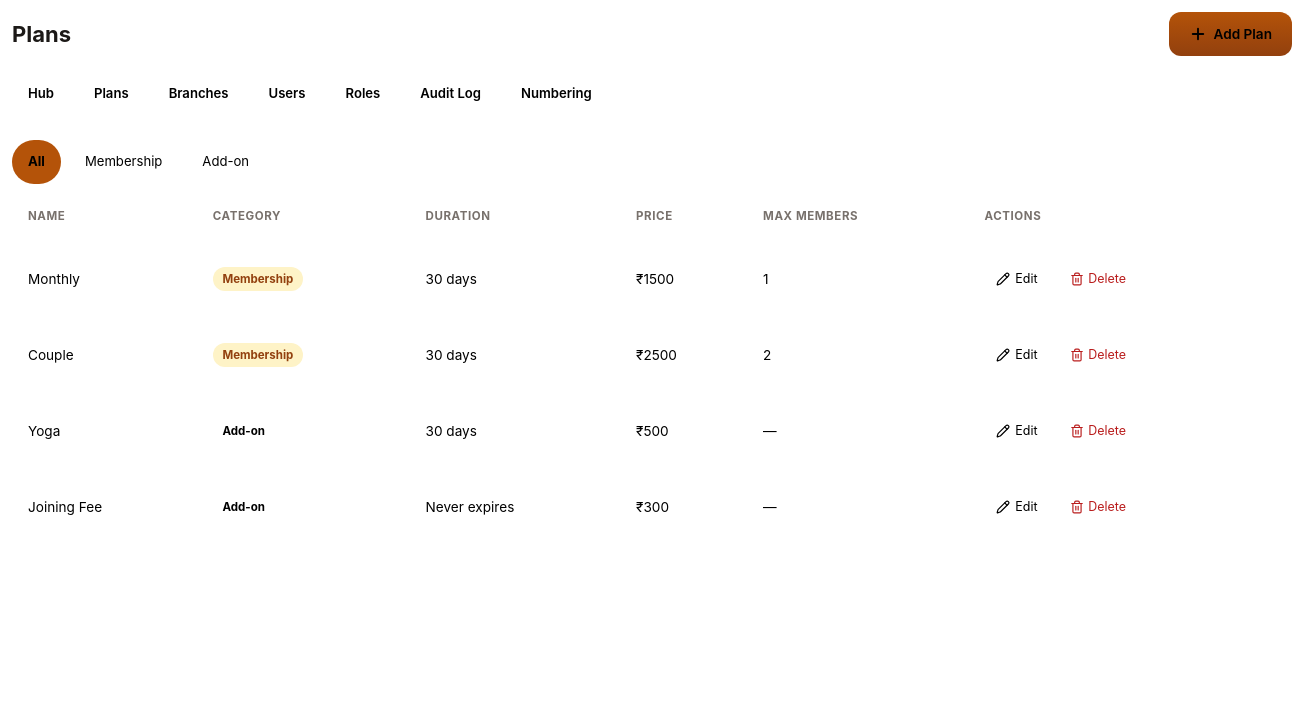
Scenario: ManagePlansPage — add / edit › shows the fields each category needs: membership has Max members, add-on has Never expires
Click the button "Add Plan" at [1231, 34], box 1169,12 -> 1292,56
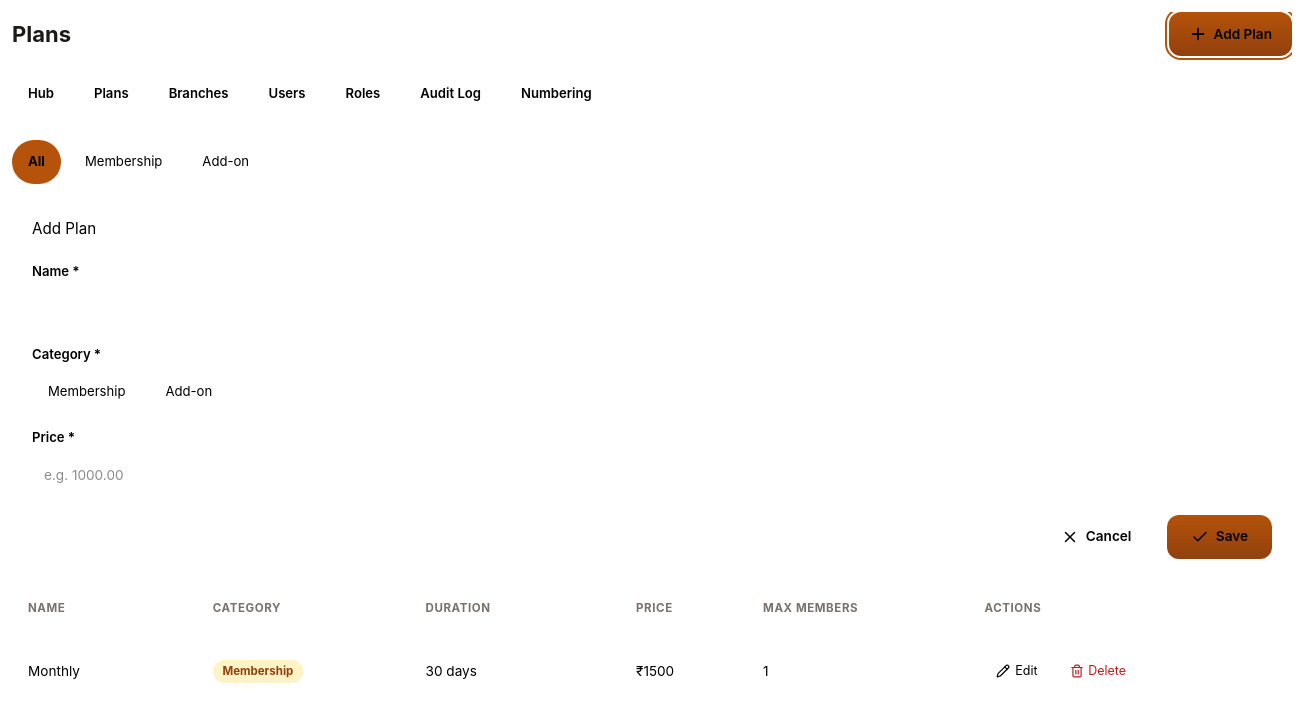
Click the 2nd button "Membership" at [87, 392], box 32,370 -> 142,414
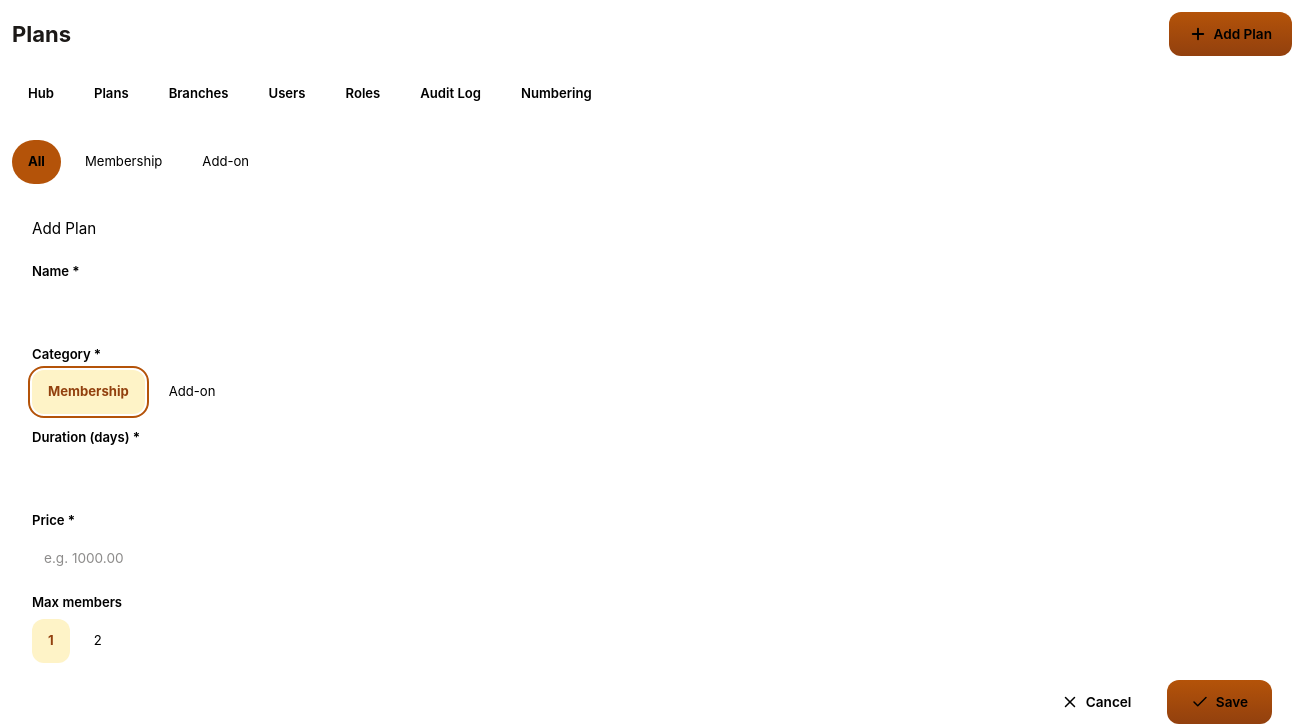
Expected: the field labelled "Never expires" is not shown
Result: the element named "Max members" is shown at 32,619 -> 118,663
Click the 2nd button "Add-on" at [192, 392], box 153,370 -> 231,414
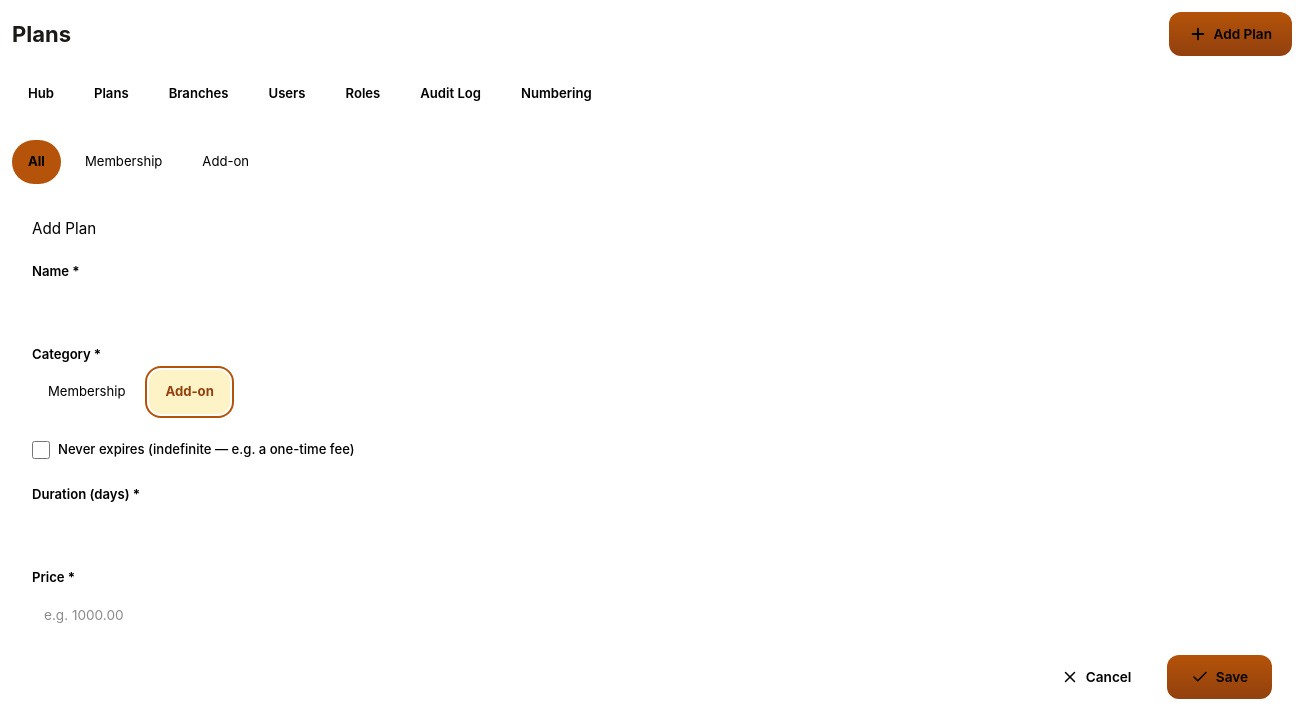
Expected: the element "Max members" is not shown
Result: the checkbox labelled "Never expires (indefinite — e.g. a one-time fee)" is shown at 32,428 -> 50,472
